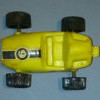amarillo: (2, 14, 96, 87)
